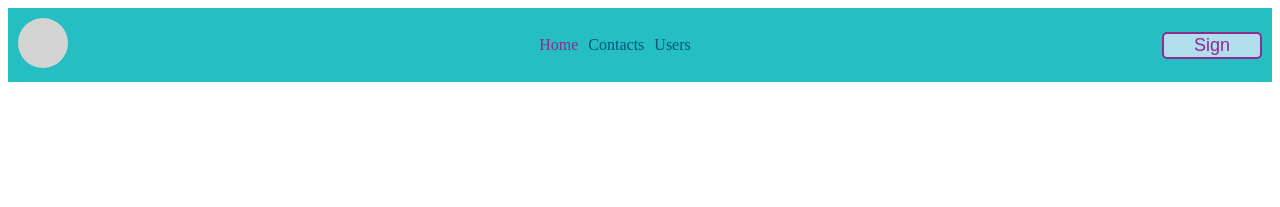
Test: App › check login and logout mechanism
Check: the text "up" is not shown
Check: the text "Login" is not shown
Click the button "Sign": (1212, 45) [1162, 32, 1262, 58]
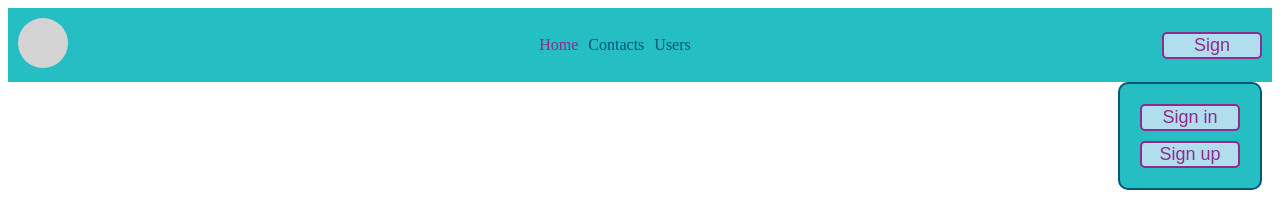
Check: the button "Sign up" is shown
Click the button "Sign up": (1190, 154) [1140, 140, 1240, 168]
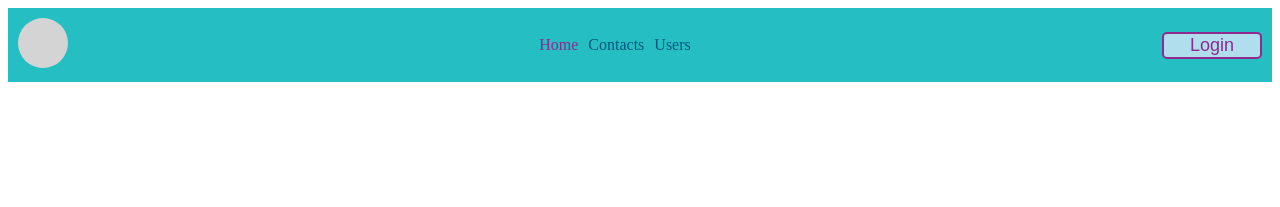
Check: the button "up" is gone
Check: the button "Login" is shown
Click the button "Login": (1212, 45) [1162, 32, 1262, 58]
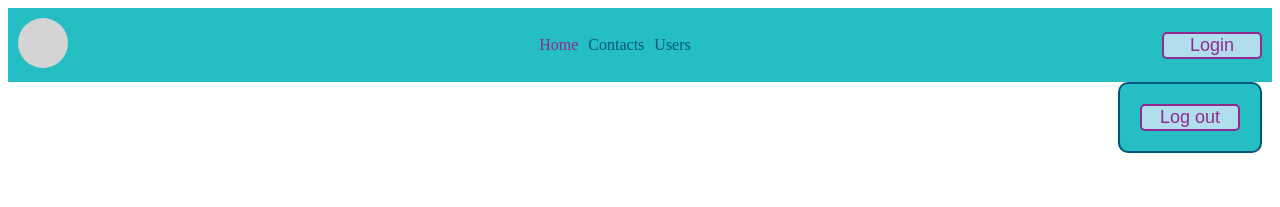
Check: the button "Log out" is shown
Click the button "Log out": (1190, 117) [1140, 104, 1240, 130]
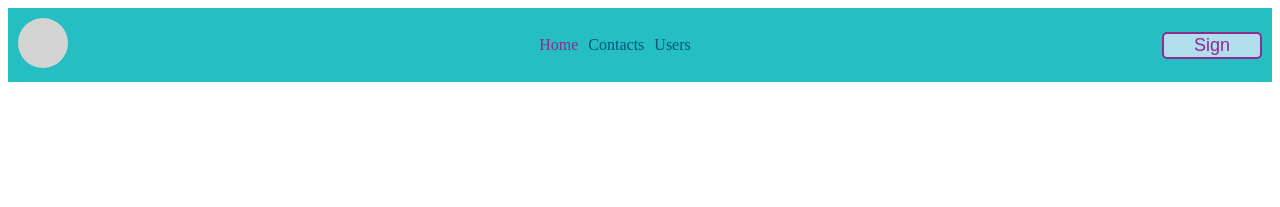
Check: the button "out" is gone
Check: the button "Login" is gone
Check: the button "Sign" is shown, box [1162, 32, 1262, 58]
